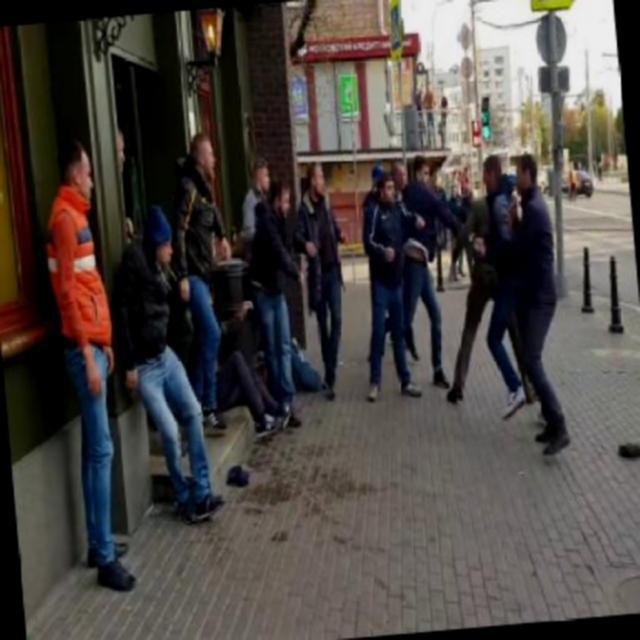fight: (392, 147, 531, 396)
non-fight: (37, 116, 146, 595), (115, 203, 227, 531), (164, 118, 247, 438), (512, 148, 570, 446), (242, 165, 312, 406), (290, 152, 362, 386)
